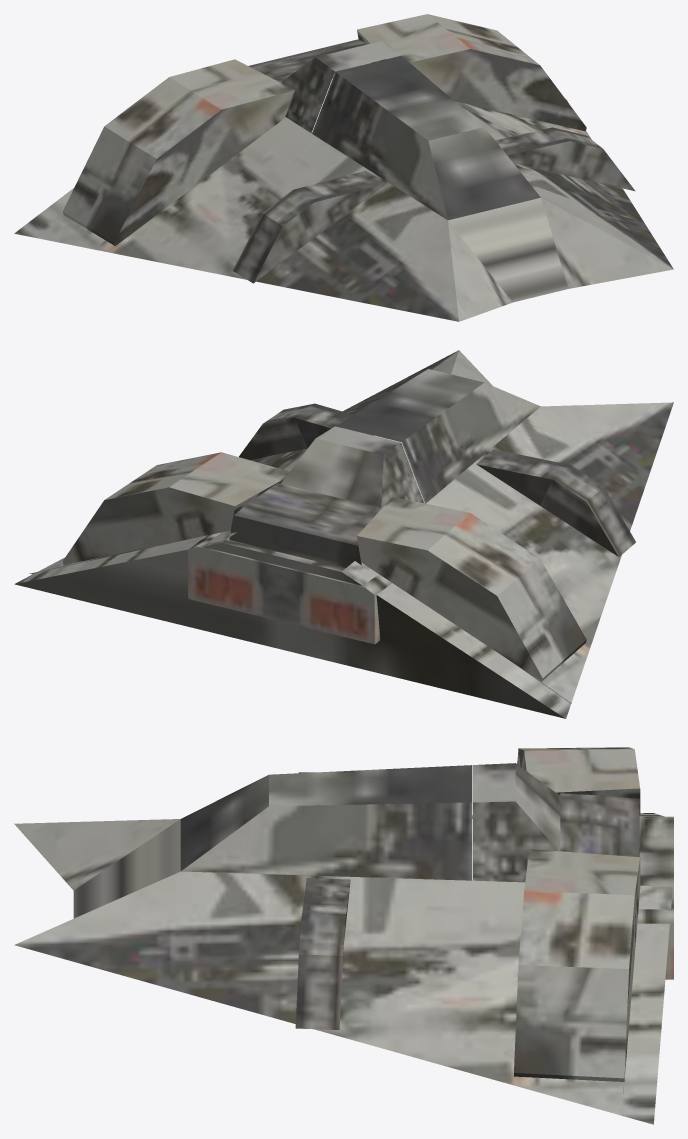
Rendered from snowspeeder.far.glb.
The picture shows the model from 3 angles, top to bottom: view 1: azimuth 30°, elevation 25°; view 2: azimuth 150°, elevation 25°; view 3: azimuth 270°, elevation 25°; orthographic projection. The views are drawn at different scales.
Size of the model in its own units: 5.07 by 1.41 by 4.53.
1 material, 1 textured.
